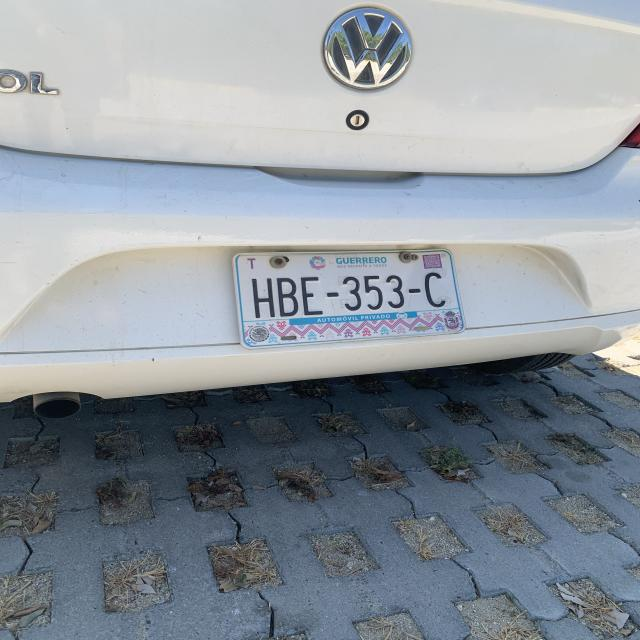placa: (240, 271, 455, 319)
